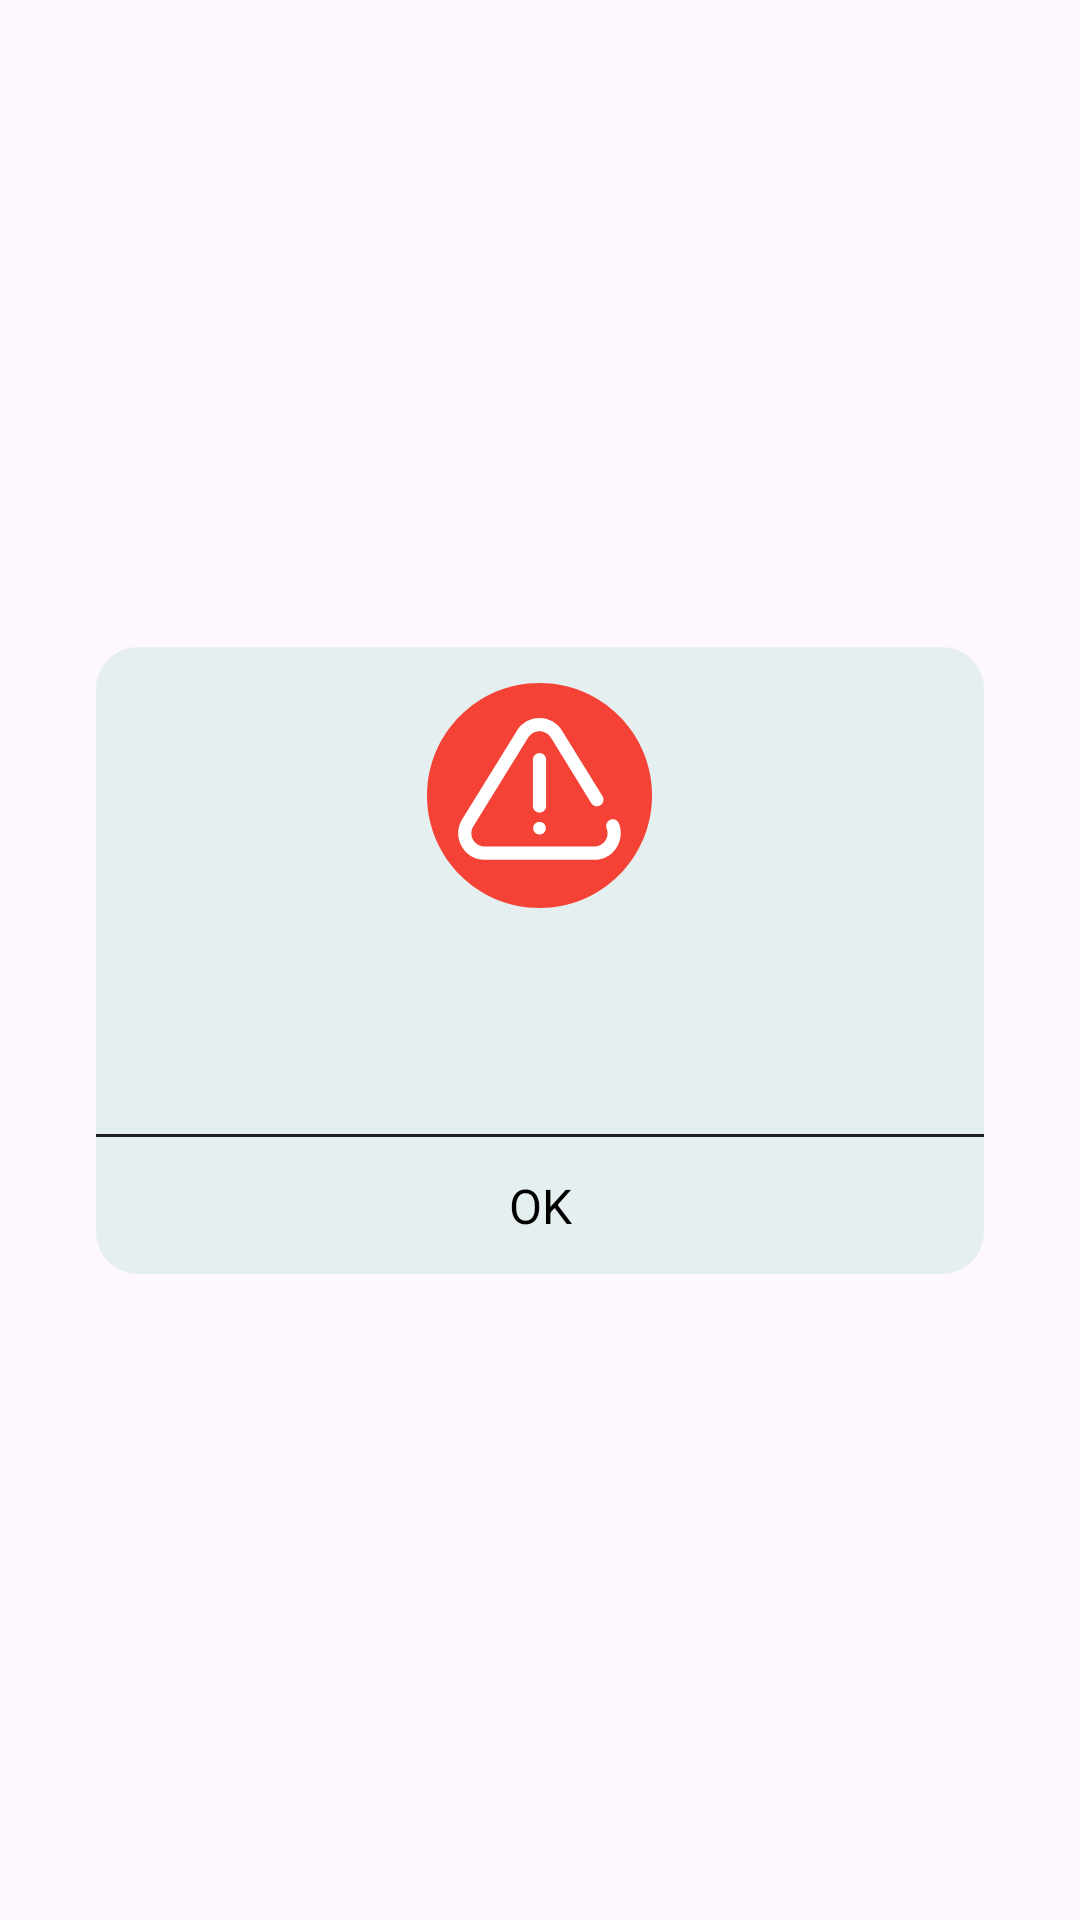

Where icons sit on this 1080px x 1920px app screen, as rect(x1, y1, x2, y2):
warning: rect(427, 683, 652, 908)
